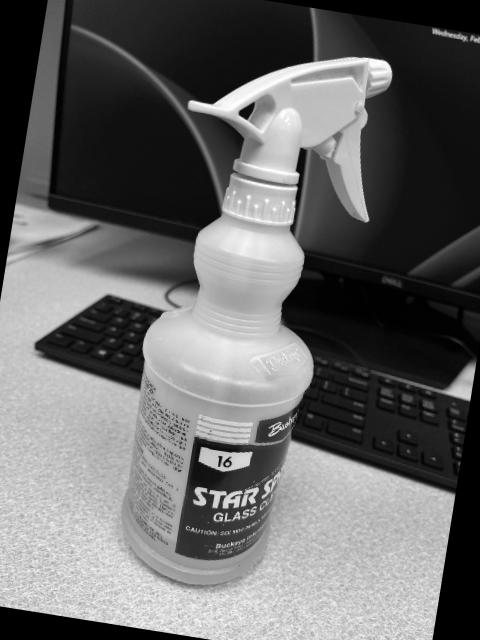StarSpray: (119, 58, 392, 590)
